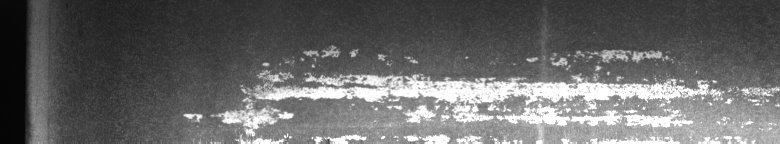kb: (183, 44, 776, 136)
